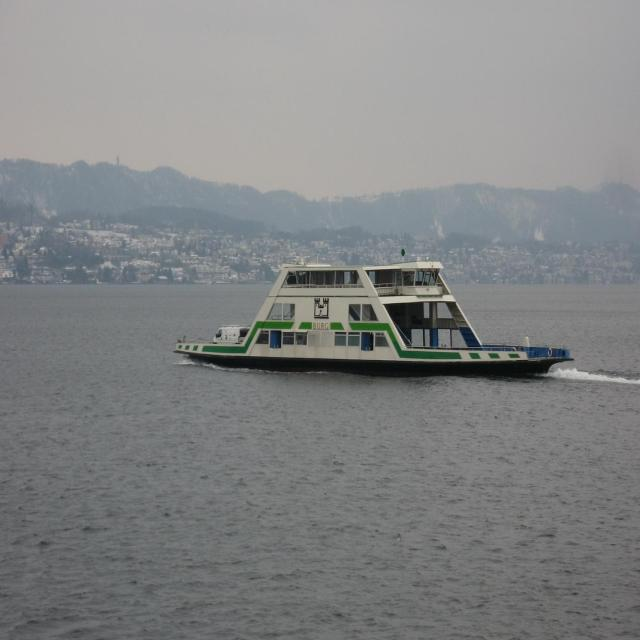passenger ship: (174, 253, 559, 385)
